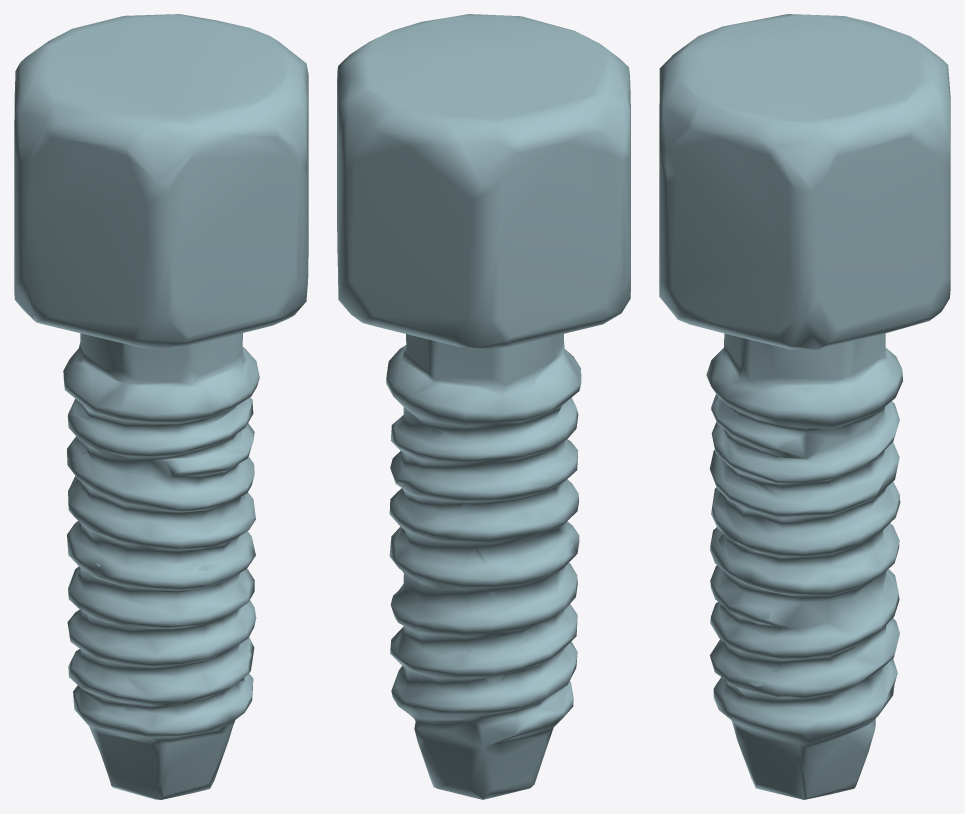
Rendered from gen3d-bolt-lod0.glb.
The picture shows the model from 3 angles, left to right: view 1: azimuth 30°, elevation 25°; view 2: azimuth 150°, elevation 25°; view 3: azimuth 270°, elevation 25°; orthographic projection.
Parts seen in each view (by area): view 1: part_0; view 2: part_0; view 3: part_0.
Part boxes in pixels (left/top/right/bottom): part_0: left=14, top=14, right=308, bottom=799; part_0: left=337, top=14, right=630, bottom=799; part_0: left=659, top=14, right=950, bottom=799.
Bounding box in the file's own units: 0.4226 × 1 × 0.372.
